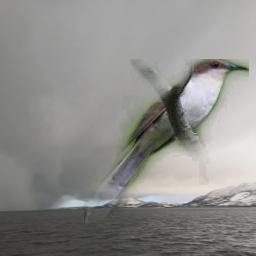Cuckoo: (84, 59, 249, 224)
